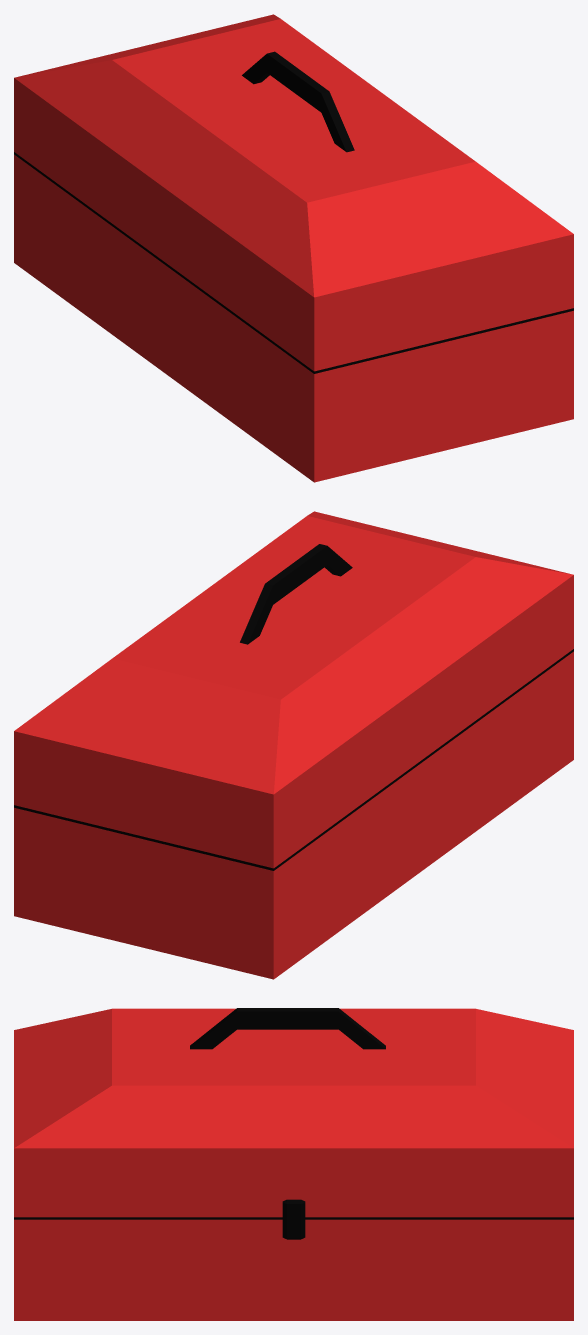
File: caixa.fbx
3 renders of one model, top to bottom at view 1: azimuth 30°, elevation 25°; view 2: azimuth 150°, elevation 25°; view 3: azimuth 270°, elevation 25°, orthographic. The views are drawn at different scales.
Parts seen in each view (by area): view 1: Cube, Cube.001; view 2: Cube, Cube.001; view 3: Cube, Cube.001.
Boxes of the visible parts, x1,y1,x2,y2 form: Cube: (14,14,573,482); Cube.001: (242,51,354,152); Cube: (14,511,573,979); Cube.001: (240,544,352,644); Cube: (14,1008,573,1320); Cube.001: (190,1008,385,1049).
Bounding box in the file's own units: 183 × 178 × 358.
